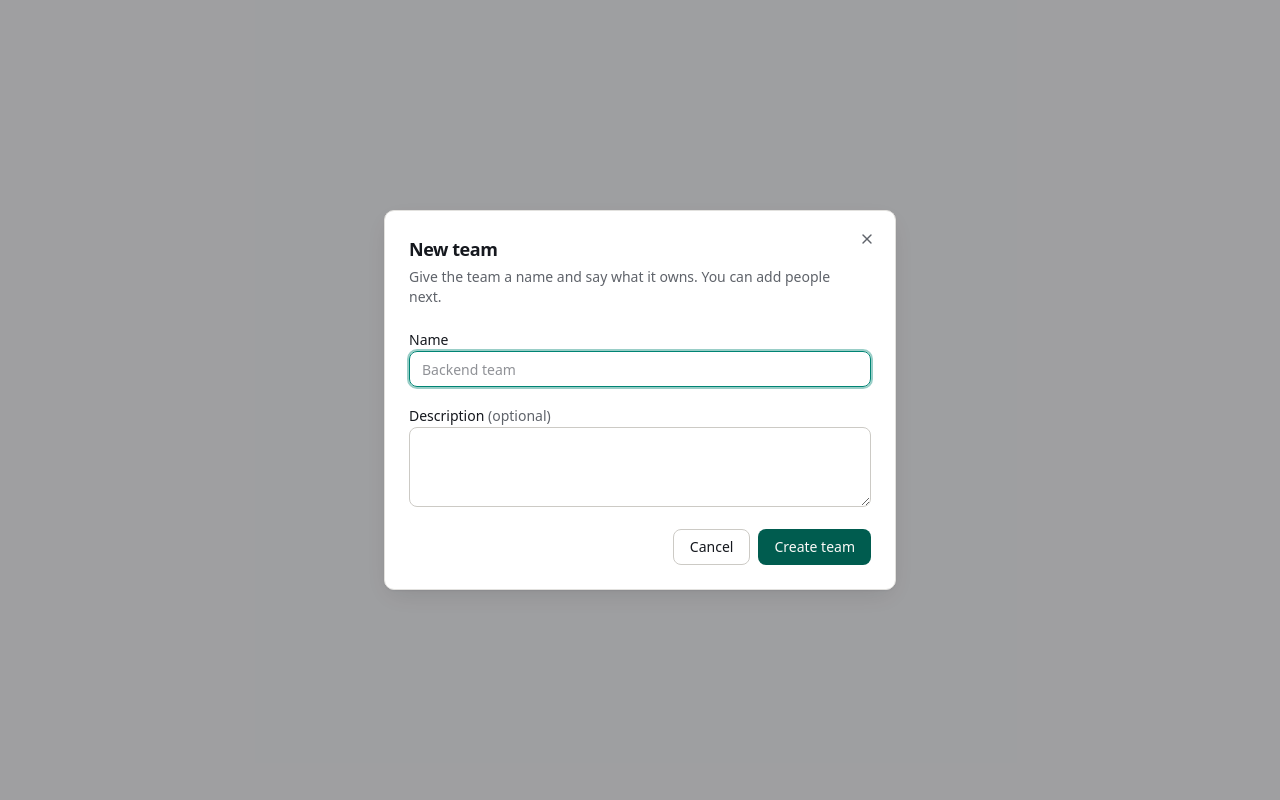
Test: TeamFormDialog › shows the backend's duplicate-name 409 on the Name field and keeps the dialog open
The image size is (1280, 800).
In the field labelled "Name": (640, 369) top-left (409, 351), bottom-right (871, 387), type "Backend"
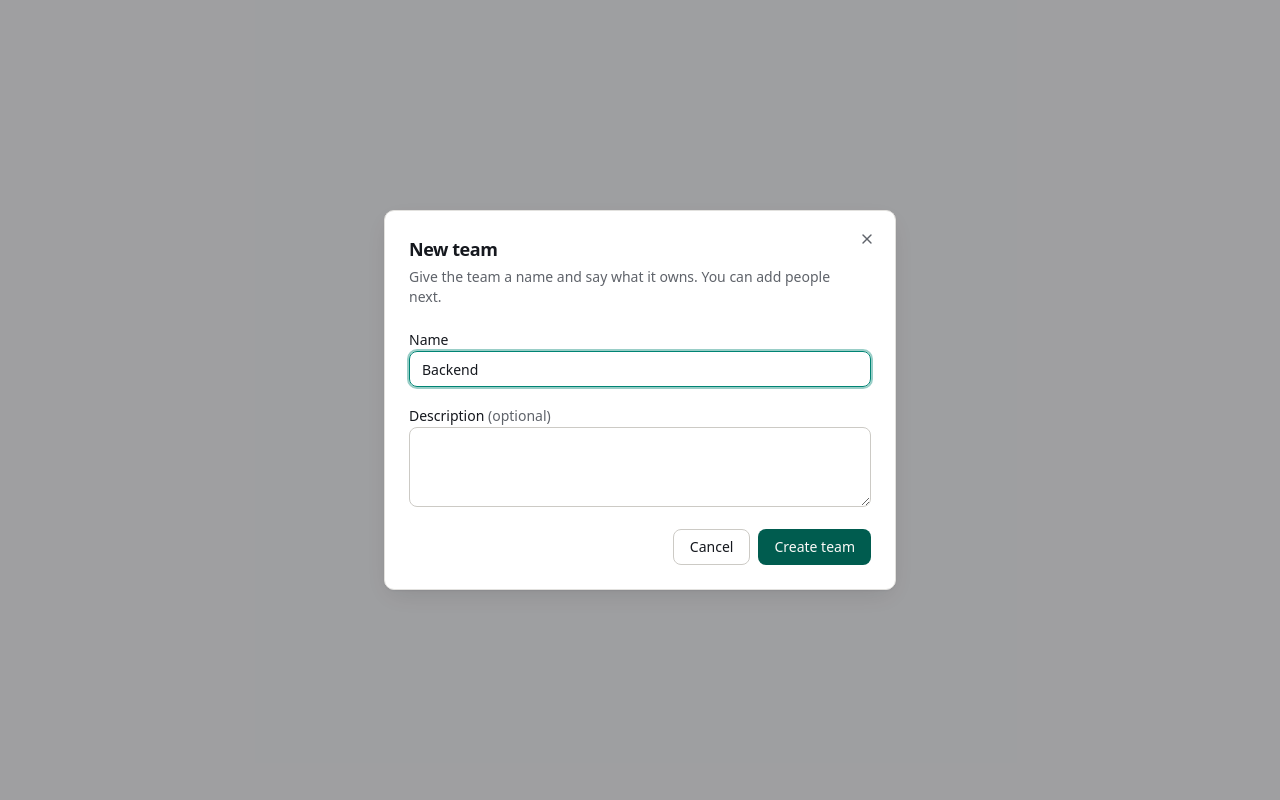
Click the button "Create team": (815, 547) top-left (758, 529), bottom-right (871, 565)
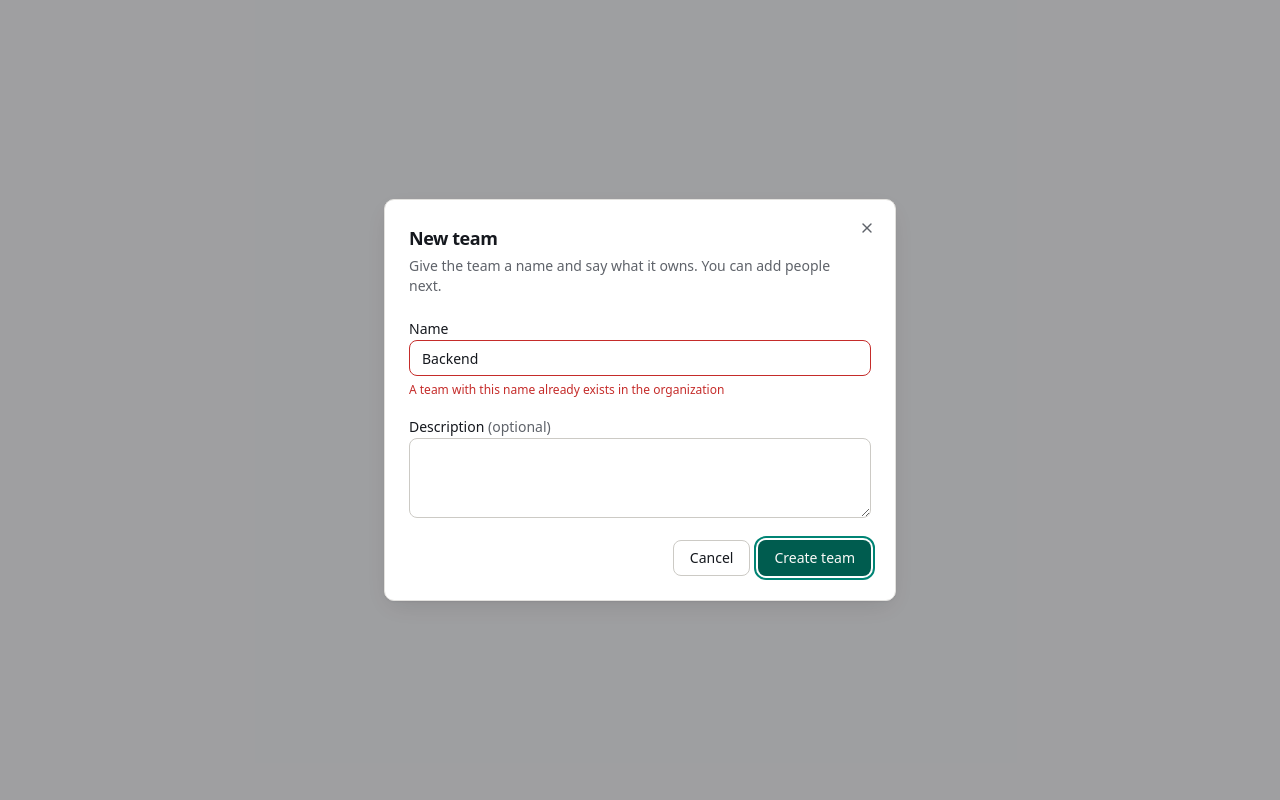
Expected: the text "A team with this name already exists in the organization" is shown, top-left (409, 381), bottom-right (724, 398)
